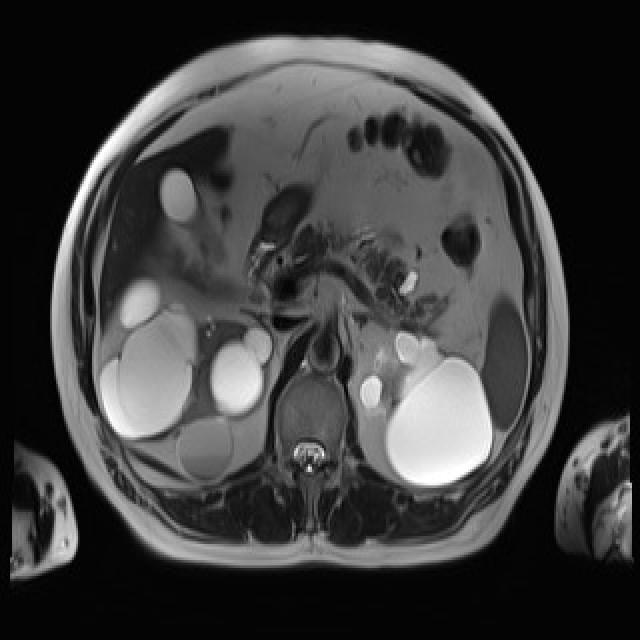sag: (93, 277, 272, 484)
sol: (354, 328, 494, 492)
